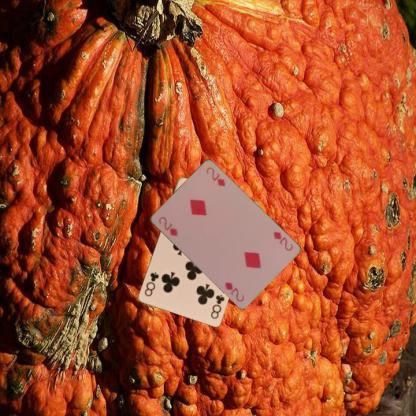2d: (270, 229, 294, 252), (156, 214, 178, 237)
8c: (208, 292, 225, 319)
